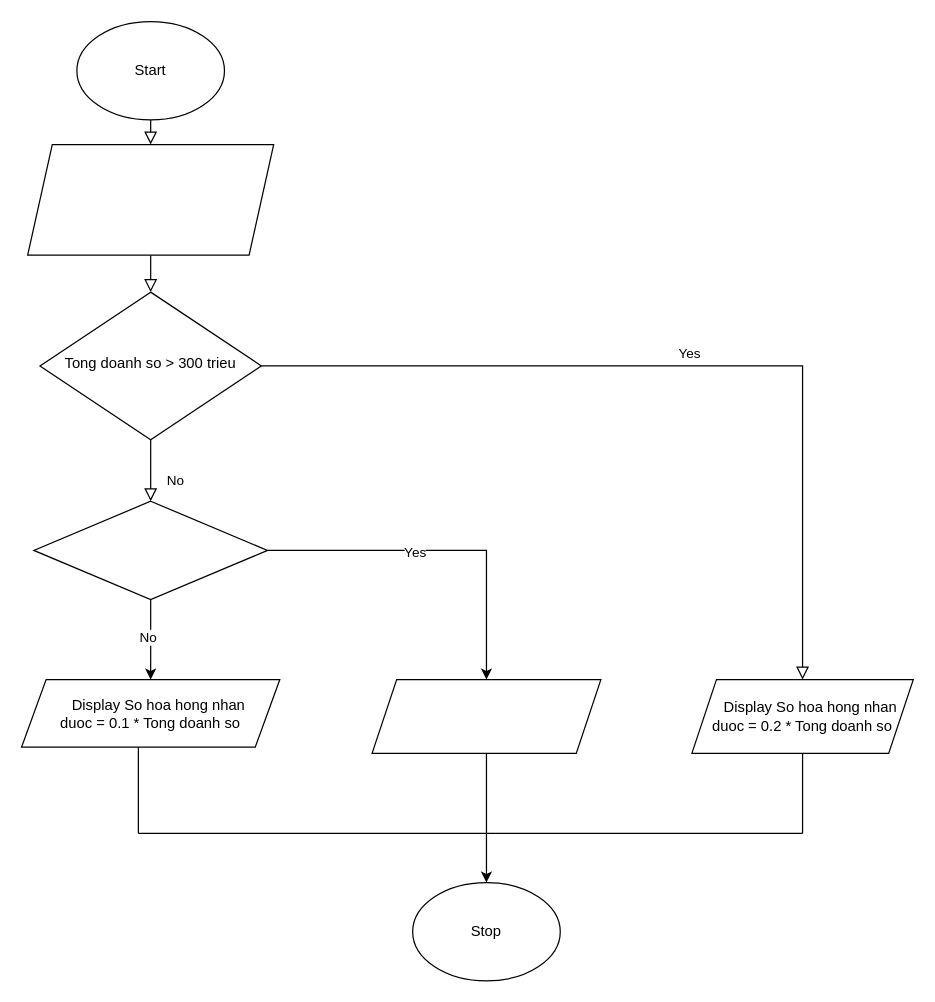
Some shapes in this 935 by 1002 pixel diagram are drawn without their labels. Each missing label, with the centre of its shape:
"Display So hoa hong nhan duoc = 0.05 * Tong doanh so" goes at (x=486, y=715).
"Input Tong doanh so, So tien hoa hong nhan duoc" goes at (x=150, y=199).
"Tong doanh so =< 100 trieu" goes at (x=150, y=550).
